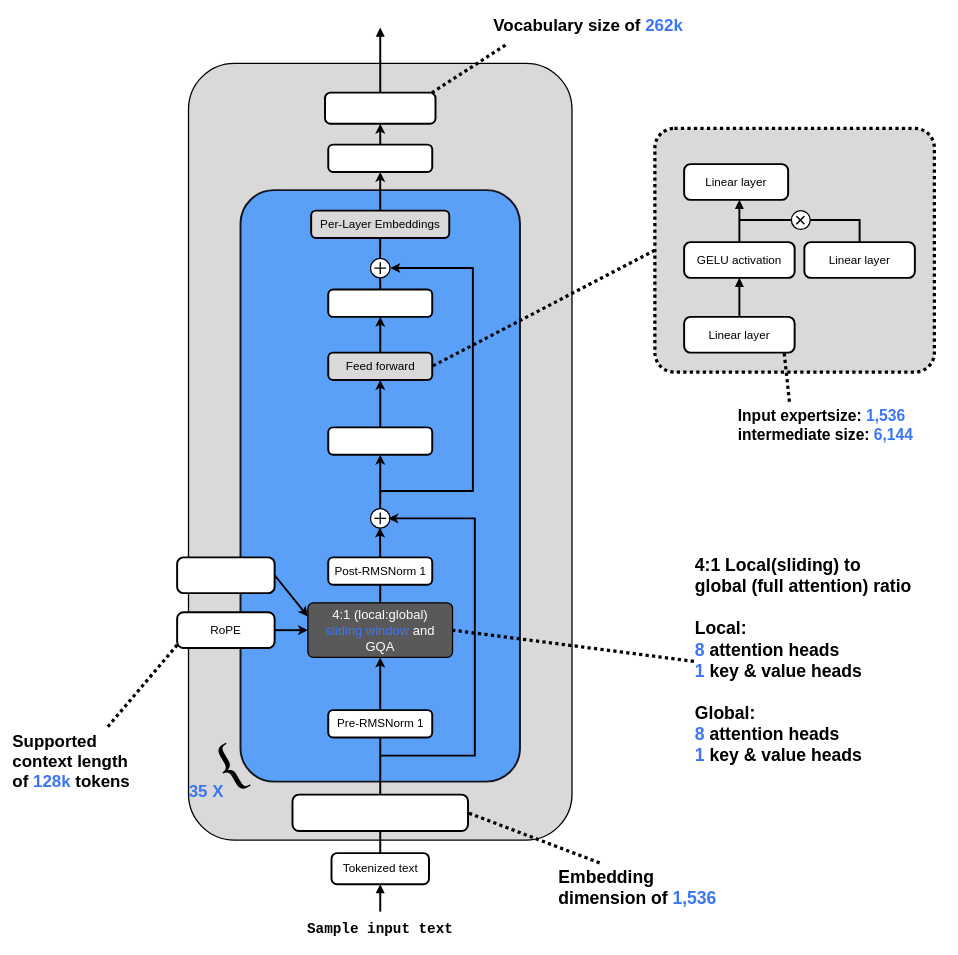
The diagram is 958 pixels wide and 955 high, and some of its shapes have lost their labels. The box of each missing label's shape, as (x1, y1, x2, y2) in pixels:
Final RMSNorm: (327, 143, 433, 173)
Linear output layer: (324, 91, 436, 124)
Post-RMSNorm 2: (327, 288, 433, 318)
Pre-RMSNorm 2: (327, 426, 433, 455)
QK-Norm: (176, 556, 275, 594)
Token embedding layer: (291, 793, 469, 832)
